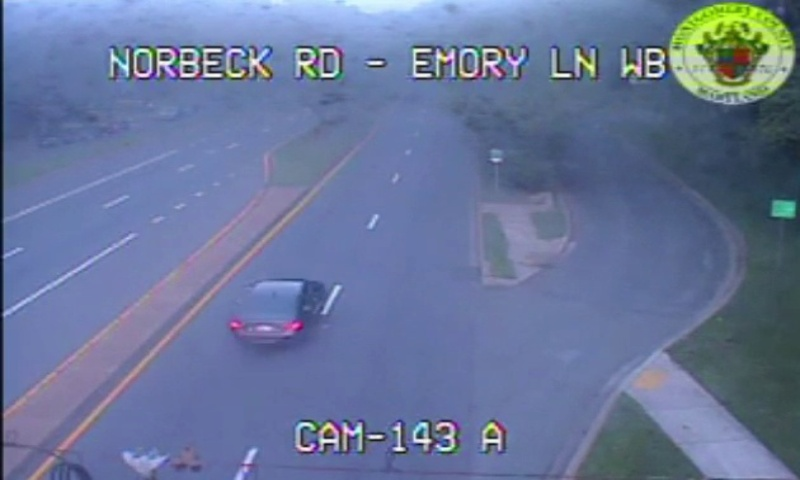car: (230, 280, 318, 341)
